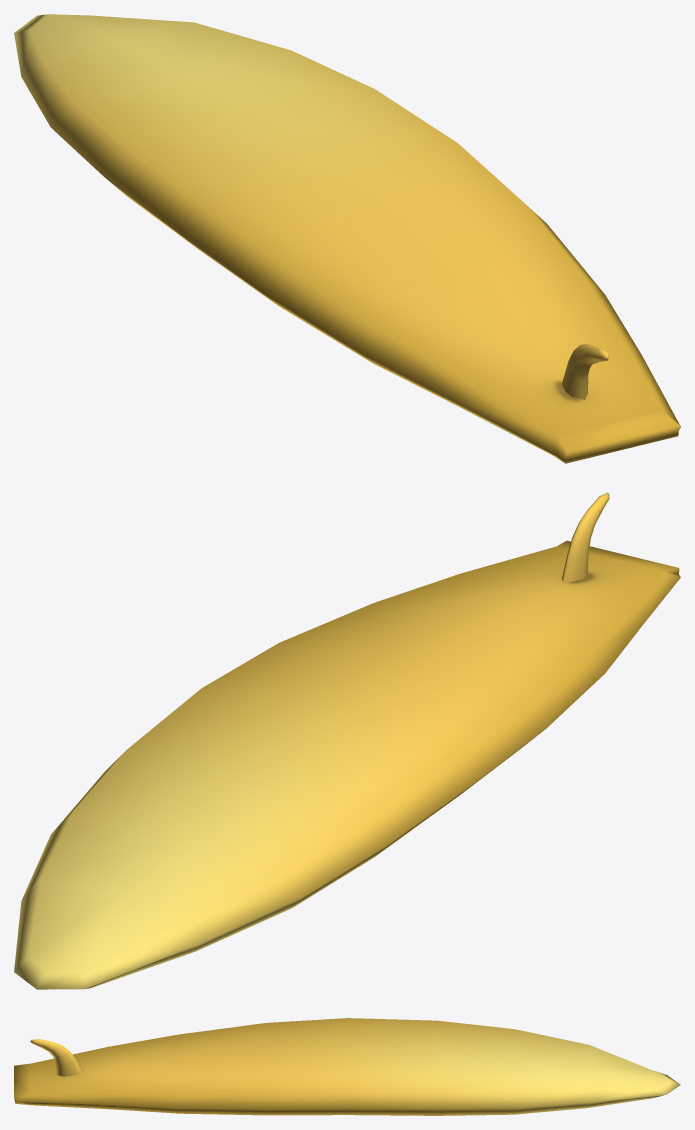
The model's file is boat.fbx.
3 views of the same model, one above another, from view 1: azimuth 30°, elevation 25°; view 2: azimuth 150°, elevation 25°; view 3: azimuth 270°, elevation 25° (orthographic). The views are drawn at different scales.
Parts seen in each view (by area): view 1: boat; view 2: boat; view 3: boat.
Boxes of the visible parts, left/top/right/bottom form: boat: left=14, top=14, right=680, bottom=463; boat: left=14, top=492, right=680, bottom=989; boat: left=14, top=1018, right=680, bottom=1115.
Bounding box in the file's own units: 58.79 × 17.11 × 201.
